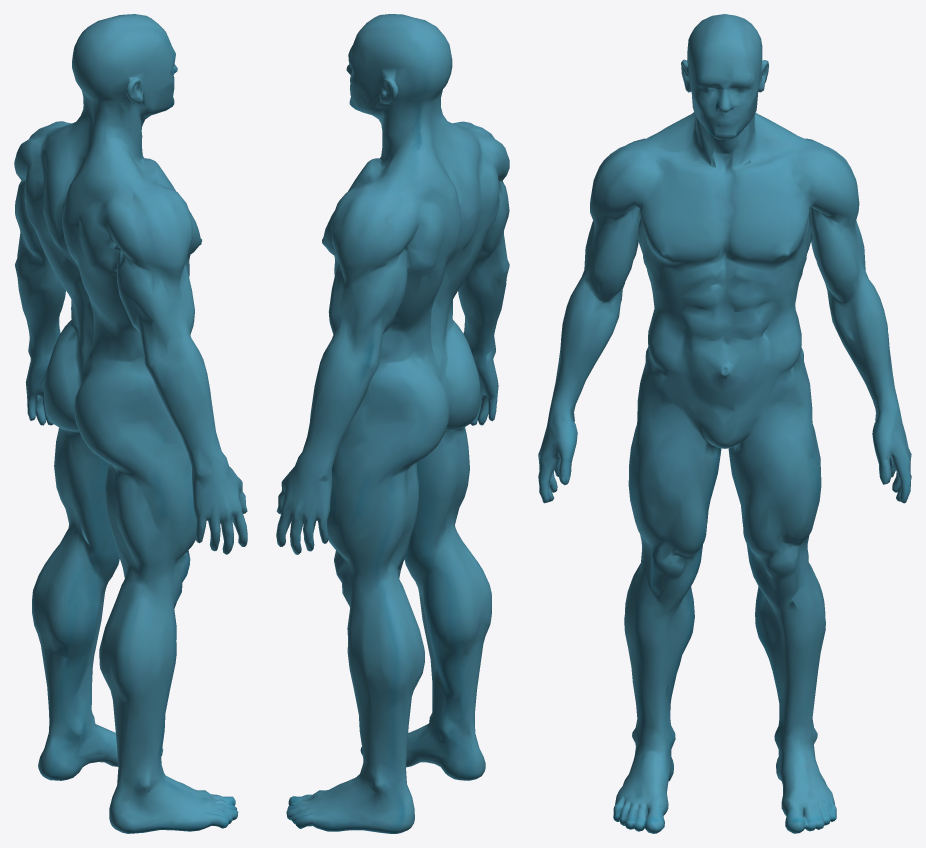
Rendered from human.glb.
3 renders of one model, left to right at view 1: azimuth 30°, elevation 25°; view 2: azimuth 150°, elevation 25°; view 3: azimuth 270°, elevation 25°, orthographic.
Visible parts, largest first — view 1: node_2c5a951b-c8ab-4279-bb4b-0628f98020b0; view 2: node_2c5a951b-c8ab-4279-bb4b-0628f98020b0; view 3: node_2c5a951b-c8ab-4279-bb4b-0628f98020b0.
Boxes of the visible parts, <box> form: node_2c5a951b-c8ab-4279-bb4b-0628f98020b0: <box>14,14,247,833</box>; node_2c5a951b-c8ab-4279-bb4b-0628f98020b0: <box>276,14,509,833</box>; node_2c5a951b-c8ab-4279-bb4b-0628f98020b0: <box>538,14,911,833</box>.
Bounding box in the file's own units: 0.1888 × 1 × 0.4335.
Materials: 1 (1 with a texture image).
